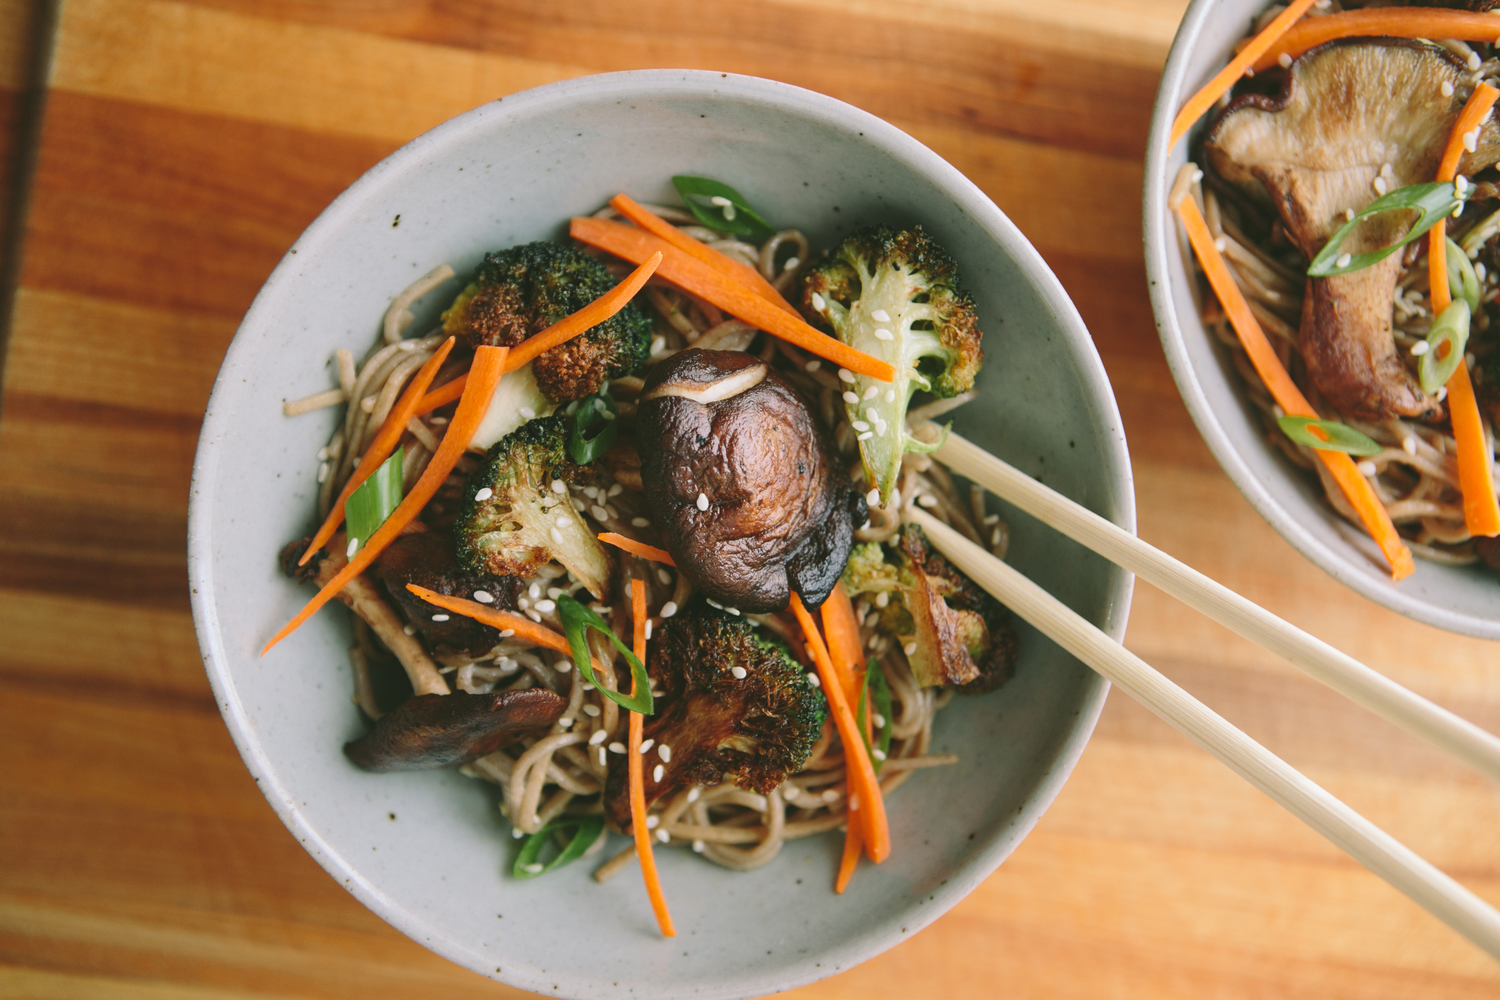Soba: (295, 222, 1007, 894)
